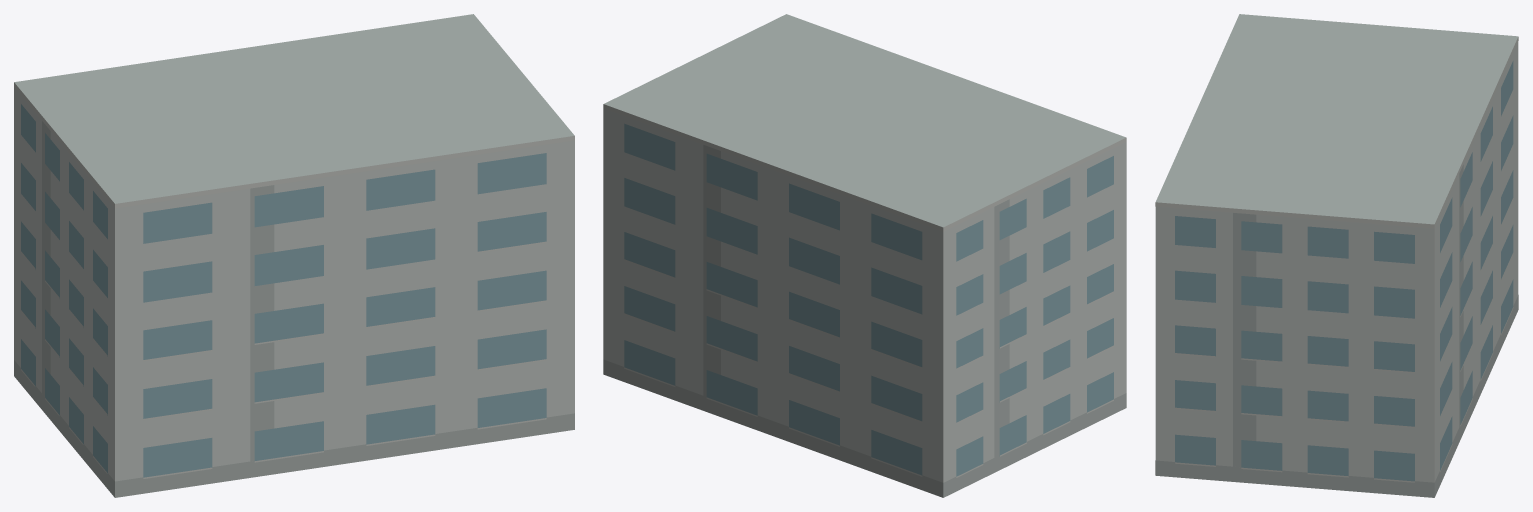
Rendered from residential-d02cfb82-53d5-46aa-bde9-071838a16c17.glb.
3 views of the same model, side by side, from view 1: azimuth 30°, elevation 25°; view 2: azimuth 150°, elevation 25°; view 3: azimuth 270°, elevation 25° (orthographic). The views are drawn at different scales.
Visible parts, largest first — view 1: residential-d02cfb82-53d5-46aa-bde9-071838a16c17.tmp; view 2: residential-d02cfb82-53d5-46aa-bde9-071838a16c17.tmp; view 3: residential-d02cfb82-53d5-46aa-bde9-071838a16c17.tmp.
Part boxes in pixels (x1,y1,x2,y2): residential-d02cfb82-53d5-46aa-bde9-071838a16c17.tmp: (14, 14, 574, 497); residential-d02cfb82-53d5-46aa-bde9-071838a16c17.tmp: (603, 14, 1126, 497); residential-d02cfb82-53d5-46aa-bde9-071838a16c17.tmp: (1155, 14, 1518, 497).
Bounding box in the file's own units: 25.18 × 15.25 × 18.36.
